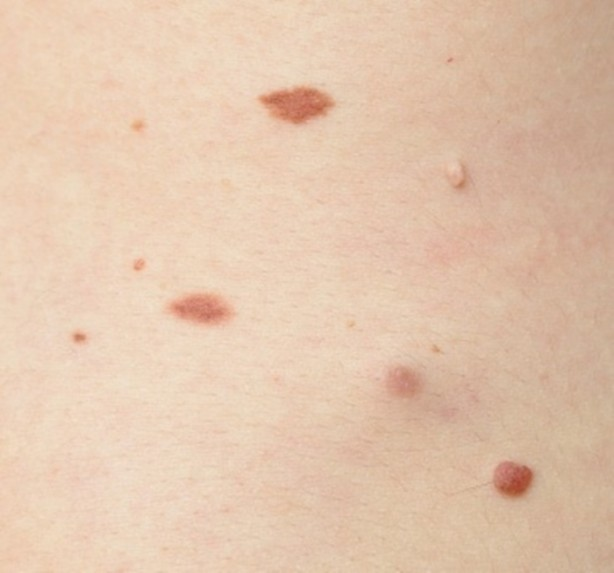mole: (228, 44, 386, 182), (150, 271, 263, 363), (363, 335, 459, 422), (482, 449, 551, 510)
